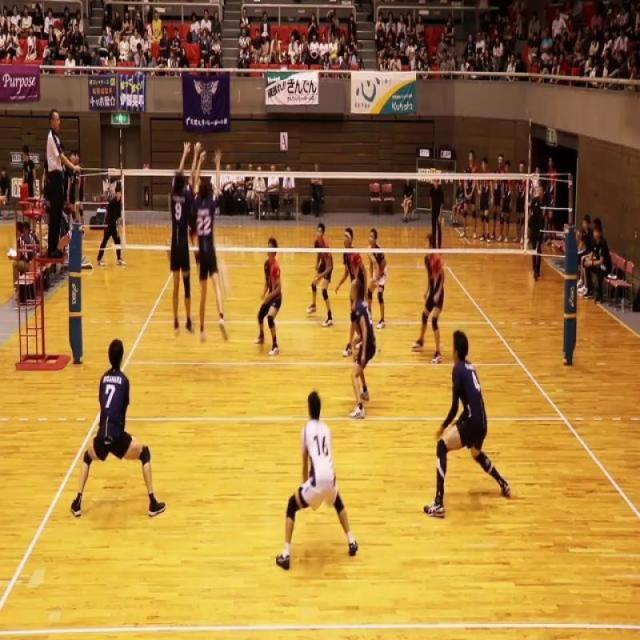volleyball: (217, 260, 230, 300)
